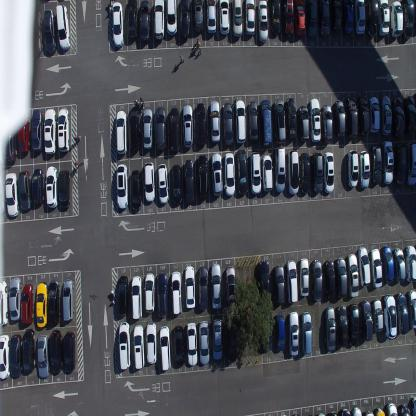car: (55, 3, 71, 50), (2, 118, 18, 163), (259, 98, 272, 149), (4, 172, 19, 216), (383, 292, 397, 339), (36, 333, 50, 379), (35, 280, 48, 329), (8, 276, 22, 321), (49, 330, 63, 374), (20, 282, 34, 326), (22, 327, 35, 374), (63, 330, 77, 373), (17, 170, 32, 210), (154, 106, 167, 152), (273, 98, 286, 144), (119, 321, 131, 370), (194, 101, 207, 146), (234, 99, 247, 144), (249, 151, 262, 196), (381, 140, 394, 185), (48, 281, 61, 326), (183, 158, 195, 206), (258, 258, 270, 306), (116, 162, 128, 210), (112, 1, 124, 49), (210, 263, 222, 310), (128, 106, 140, 153), (236, 148, 248, 195), (156, 271, 168, 318), (159, 325, 171, 372), (133, 323, 145, 370), (274, 146, 286, 193), (31, 109, 44, 152), (182, 103, 194, 149), (186, 321, 198, 367), (287, 310, 299, 356), (309, 97, 321, 143), (287, 148, 299, 194), (44, 108, 56, 154), (246, 100, 259, 142), (360, 299, 373, 341), (131, 275, 143, 320), (286, 259, 298, 304), (285, 96, 297, 141), (115, 109, 127, 154), (57, 108, 69, 153), (347, 253, 359, 298), (10, 333, 22, 378), (143, 161, 156, 202), (210, 152, 222, 196), (197, 154, 209, 198), (184, 265, 196, 309), (173, 324, 185, 368), (300, 312, 312, 356), (346, 96, 358, 140), (393, 96, 405, 140), (31, 11, 43, 55), (46, 165, 58, 209), (310, 258, 322, 302), (324, 307, 336, 351), (62, 278, 74, 322), (366, 0, 379, 40), (58, 169, 71, 209), (17, 114, 30, 154), (357, 246, 370, 286), (0, 333, 11, 380), (322, 150, 334, 193), (311, 150, 323, 193), (43, 9, 55, 52), (396, 291, 408, 334), (171, 270, 182, 316), (336, 305, 348, 347), (335, 257, 347, 299), (224, 151, 235, 196), (222, 101, 233, 146), (169, 107, 180, 152), (198, 266, 209, 311), (199, 320, 210, 365), (346, 149, 359, 187), (31, 167, 44, 205), (381, 246, 394, 284), (157, 163, 169, 204), (273, 265, 285, 306), (370, 247, 382, 288), (209, 99, 220, 143), (130, 168, 141, 212), (146, 321, 157, 365), (165, 0, 178, 37), (390, 0, 403, 37), (117, 275, 129, 315), (274, 312, 286, 352), (406, 140, 416, 188), (370, 145, 382, 185), (358, 150, 370, 190), (306, 0, 318, 40), (403, 0, 415, 40), (139, 0, 150, 43), (348, 304, 359, 347), (334, 99, 346, 138), (142, 108, 153, 150), (226, 321, 237, 363), (144, 272, 155, 314), (381, 94, 392, 136), (405, 94, 416, 136), (297, 104, 309, 142), (359, 94, 370, 135), (395, 143, 406, 184), (244, 0, 256, 37), (378, 0, 390, 37), (212, 317, 222, 361), (179, 0, 190, 40), (325, 260, 336, 300), (294, 0, 306, 36), (258, 0, 268, 43), (262, 154, 273, 193), (369, 95, 380, 134), (172, 162, 182, 204), (218, 0, 230, 35), (354, 0, 366, 35), (127, 0, 138, 38), (283, 0, 294, 38), (319, 0, 330, 38), (299, 257, 309, 298), (300, 153, 310, 194), (154, 0, 164, 41), (193, 0, 205, 34), (371, 298, 383, 332), (232, 0, 243, 37), (322, 103, 332, 143), (270, 0, 281, 36), (393, 248, 405, 281), (206, 0, 217, 35), (0, 279, 8, 327), (226, 266, 236, 304), (406, 245, 416, 282), (407, 289, 416, 330), (332, 0, 342, 33), (344, 0, 353, 34), (0, 173, 6, 214), (385, 402, 398, 415), (398, 403, 411, 415), (350, 405, 362, 415), (412, 394, 416, 416), (374, 408, 386, 415), (326, 410, 338, 416), (340, 408, 350, 415), (364, 410, 374, 415), (316, 410, 326, 415)
